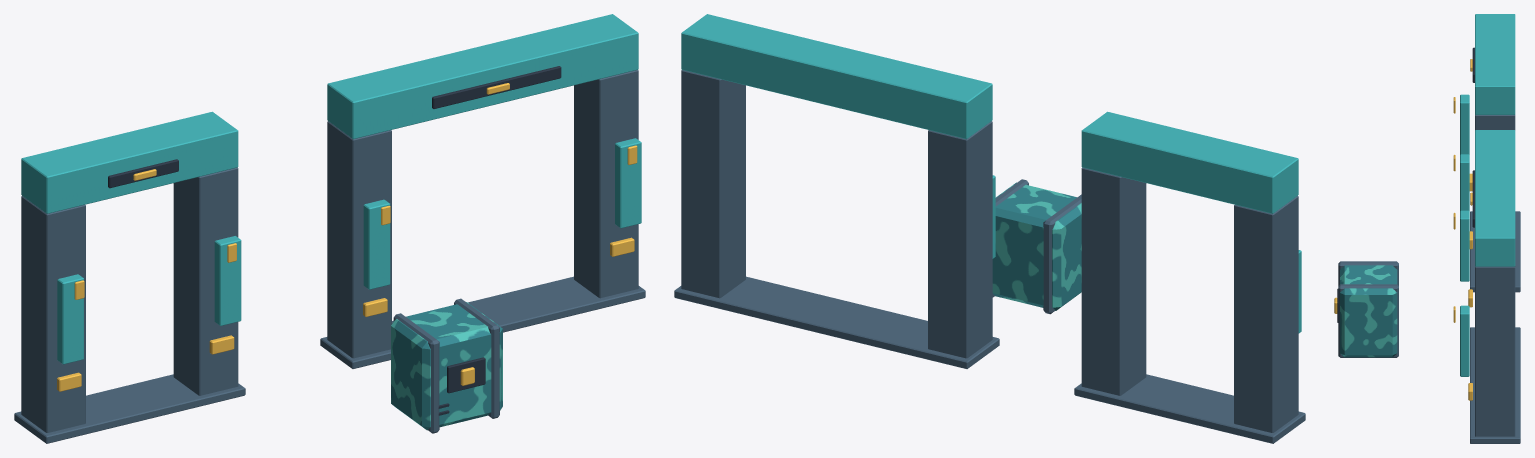
The model's file is doorway_crate.glb.
3 renders of one model, left to right at view 1: azimuth 30°, elevation 25°; view 2: azimuth 150°, elevation 25°; view 3: azimuth 270°, elevation 25°, orthographic. The views are drawn at different scales.
Parts seen in each view (by area): view 1: EXPORT_Door_Wide, EXPORT_Door_Narrow, EXPORT_UtilityCrate, EXPORT_Crate reinforced strap.001, EXPORT_Crate reinforced strap, EXPORT_Crate front inset; view 2: EXPORT_Door_Wide, EXPORT_Door_Narrow, EXPORT_UtilityCrate, EXPORT_Crate reinforced strap; view 3: EXPORT_Door_Wide, EXPORT_Door_Narrow, EXPORT_UtilityCrate, EXPORT_Crate reinforced strap.001, EXPORT_Crate reinforced strap.
Part boxes in pixels (x1=…): EXPORT_Door_Wide: x1=320, y1=14, x2=645, y2=368; EXPORT_Door_Narrow: x1=14, y1=111, x2=245, y2=443; EXPORT_UtilityCrate: x1=391, y1=302, x2=502, y2=430; EXPORT_Crate reinforced strap.001: x1=454, y1=298, x2=499, y2=418; EXPORT_Crate reinforced strap: x1=393, y1=313, x2=439, y2=433; EXPORT_Crate front inset: x1=447, y1=357, x2=485, y2=393; EXPORT_Door_Wide: x1=674, y1=14, x2=999, y2=368; EXPORT_Door_Narrow: x1=1074, y1=111, x2=1305, y2=443; EXPORT_UtilityCrate: x1=992, y1=182, x2=1081, y2=310; EXPORT_Crate reinforced strap: x1=1043, y1=194, x2=1081, y2=314; EXPORT_Door_Wide: x1=1453, y1=130, x2=1520, y2=443; EXPORT_Door_Narrow: x1=1453, y1=14, x2=1520, y2=292; EXPORT_UtilityCrate: x1=1340, y1=265, x2=1397, y2=357; EXPORT_Crate reinforced strap.001: x1=1338, y1=284, x2=1398, y2=357; EXPORT_Crate reinforced strap: x1=1338, y1=261, x2=1398, y2=285.
Size of the model in its own units: 6.37 by 2.7 by 2.21.
Materials: 5 (1 with a texture image).
